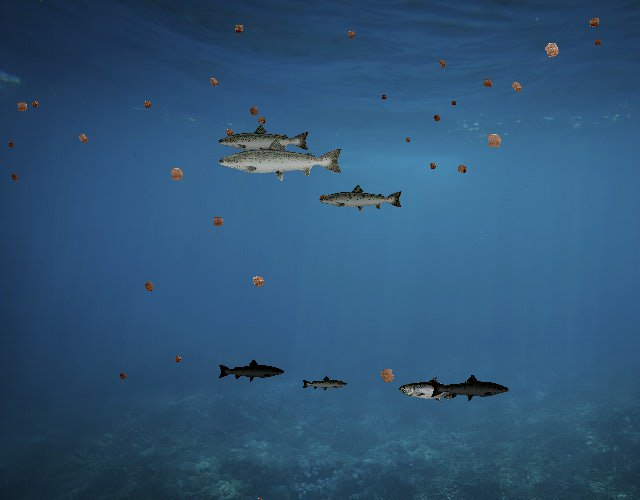Fish: (216, 136, 345, 182), (218, 124, 312, 157), (318, 183, 404, 214), (429, 373, 510, 403), (399, 377, 472, 403), (218, 359, 286, 383), (301, 375, 348, 392)
Pellet: (246, 269, 271, 294), (343, 26, 360, 43), (170, 352, 185, 367), (116, 369, 130, 383), (426, 159, 440, 173), (28, 97, 42, 111)
